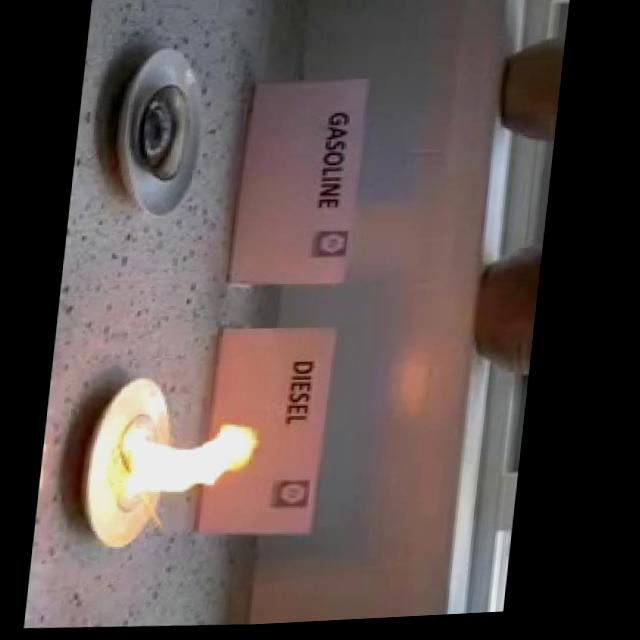Fire: (114, 423, 272, 510)
